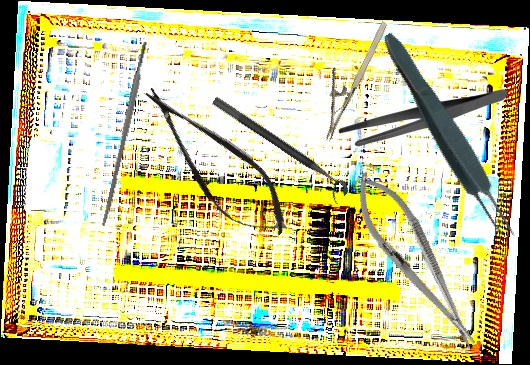Dressing Forceps: (338, 88, 508, 147)
Fixation Ring: (204, 95, 352, 206)
Micro Scissor: (124, 69, 305, 256)
Needle Holder: (339, 162, 492, 359), (301, 11, 392, 143)
Scalpel Handle: (99, 41, 151, 227)
Tissue Forceps: (372, 26, 524, 248)
